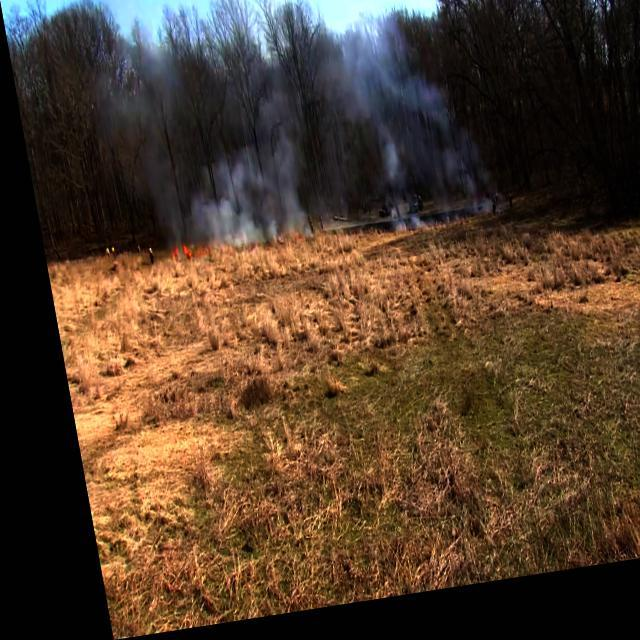Fire: (172, 246, 184, 264), (160, 248, 170, 262)
